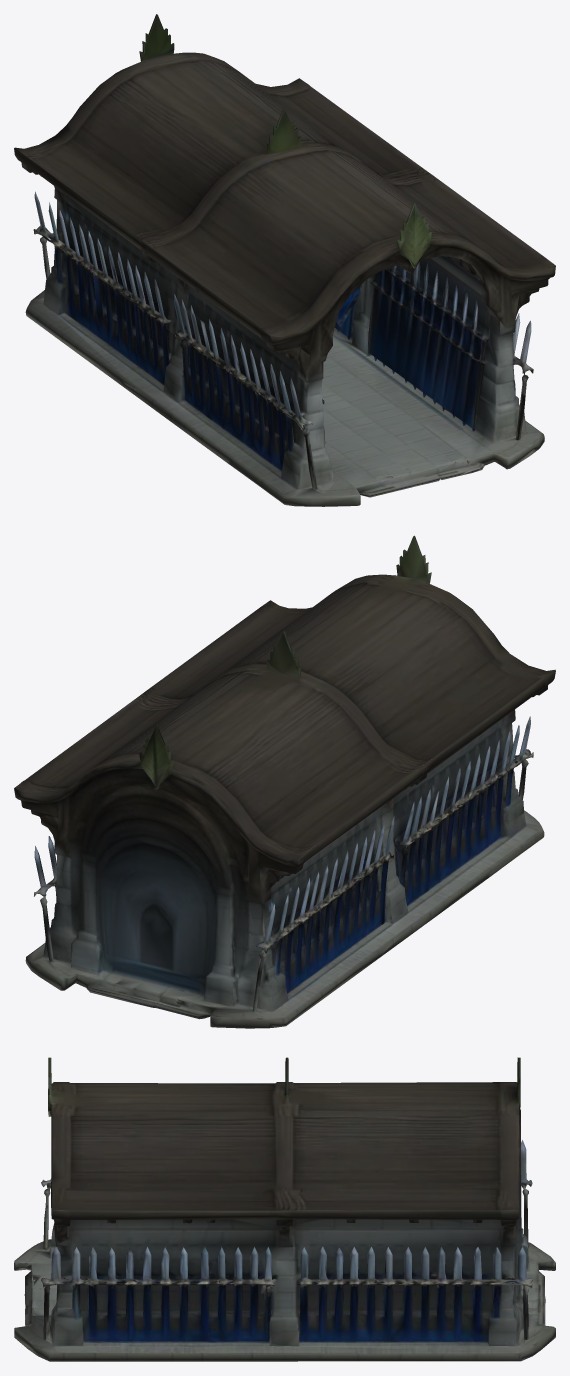
File: elf_barr.glb
The picture shows the model from 3 angles, top to bottom: view 1: azimuth 30°, elevation 25°; view 2: azimuth 150°, elevation 25°; view 3: azimuth 270°, elevation 25°; orthographic projection. The views are drawn at different scales.
Visible parts, largest first — view 1: node_0; view 2: node_0; view 3: node_0.
Boxes of the visible parts, <box> form: node_0: <box>14,14,555,506</box>; node_0: <box>14,535,555,1028</box>; node_0: <box>14,1057,555,1361</box>.
Size of the model in its own units: 0.5772 by 0.5225 by 1.04.
1 material, 1 textured.
